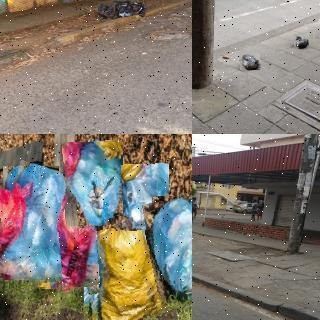Garbage: (78, 201, 171, 320), (0, 163, 66, 282), (36, 185, 98, 288), (65, 141, 125, 228), (147, 194, 192, 308), (122, 163, 170, 231), (0, 181, 12, 279), (239, 50, 261, 71), (97, 4, 116, 19), (294, 34, 309, 49), (119, 5, 133, 17), (131, 2, 142, 14)
